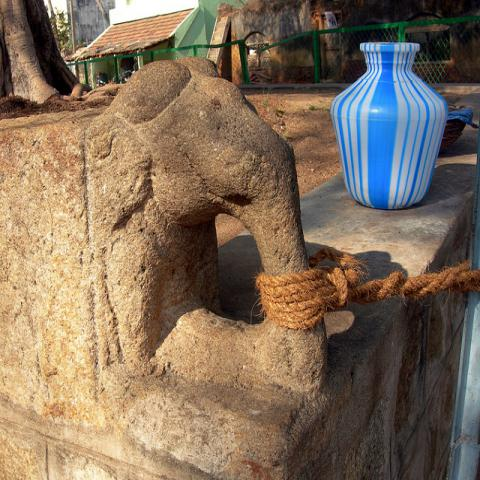motorcycle: (95, 70, 109, 89)
